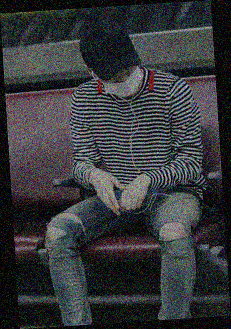mask_weared_incorrect: (97, 66, 147, 99)
